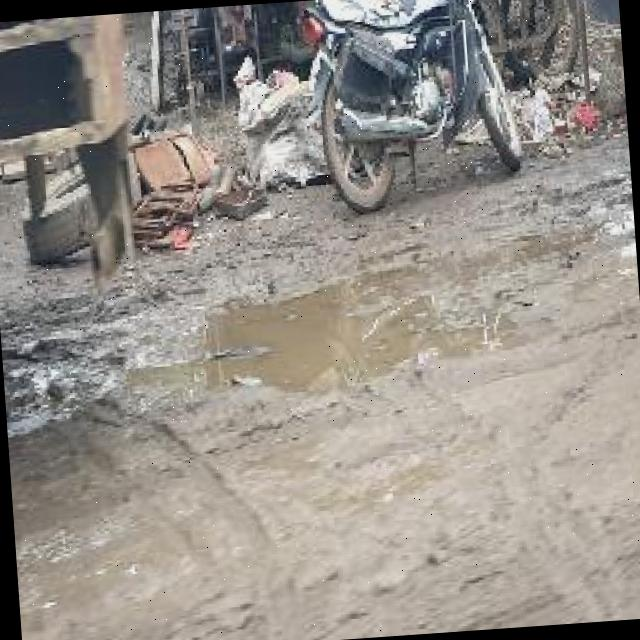stagnation: (185, 237, 552, 418)
